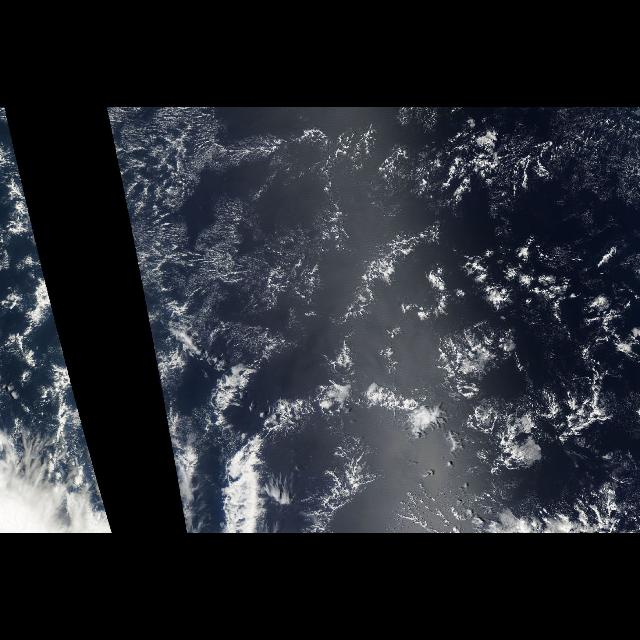Gravel: (107, 108, 291, 215)
Sugar: (107, 109, 400, 314), (553, 107, 639, 225)
